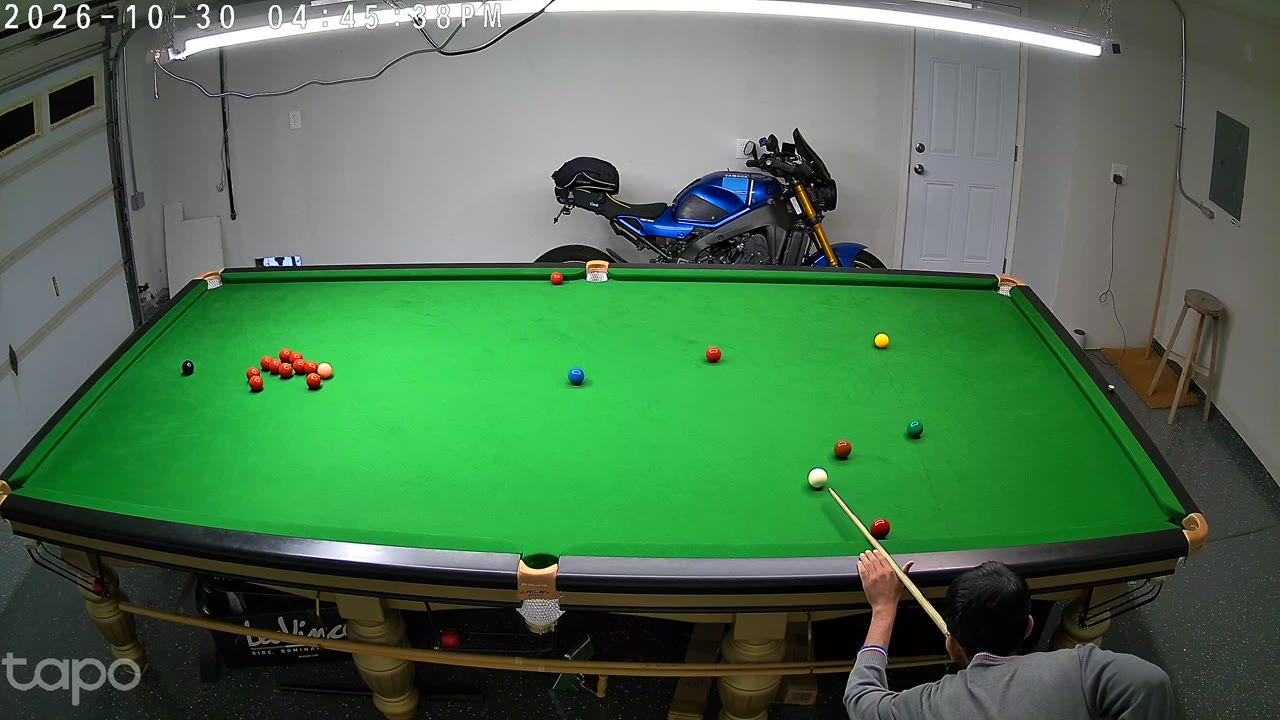black: (182, 358, 194, 378)
blue: (568, 366, 584, 389)
brown: (834, 438, 852, 462)
green: (907, 417, 923, 441)
pink: (318, 362, 331, 381)
red: (870, 515, 891, 543), (706, 345, 721, 366), (246, 366, 260, 387), (250, 374, 263, 394), (307, 371, 319, 391), (279, 348, 290, 368), (280, 362, 292, 380), (305, 360, 316, 379), (550, 271, 562, 288), (289, 350, 299, 370), (270, 357, 281, 375), (261, 355, 272, 373), (294, 359, 304, 376)
white: (807, 465, 828, 493)
yellow: (875, 332, 889, 351)
